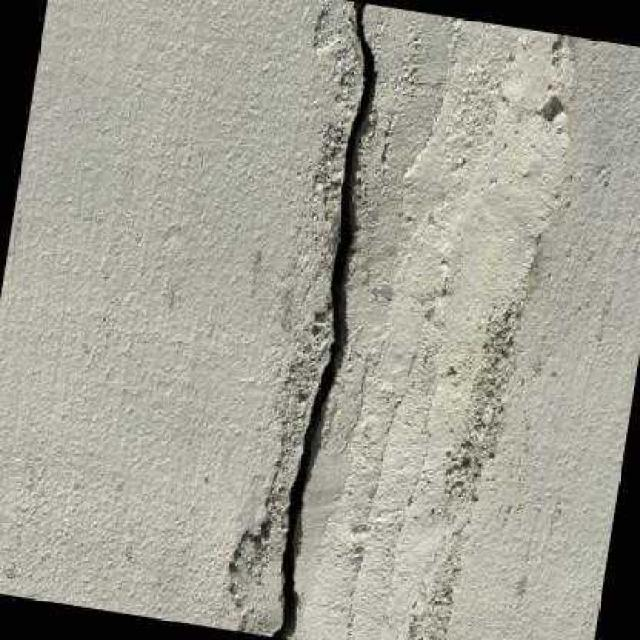D00: (265, 1, 379, 639)
